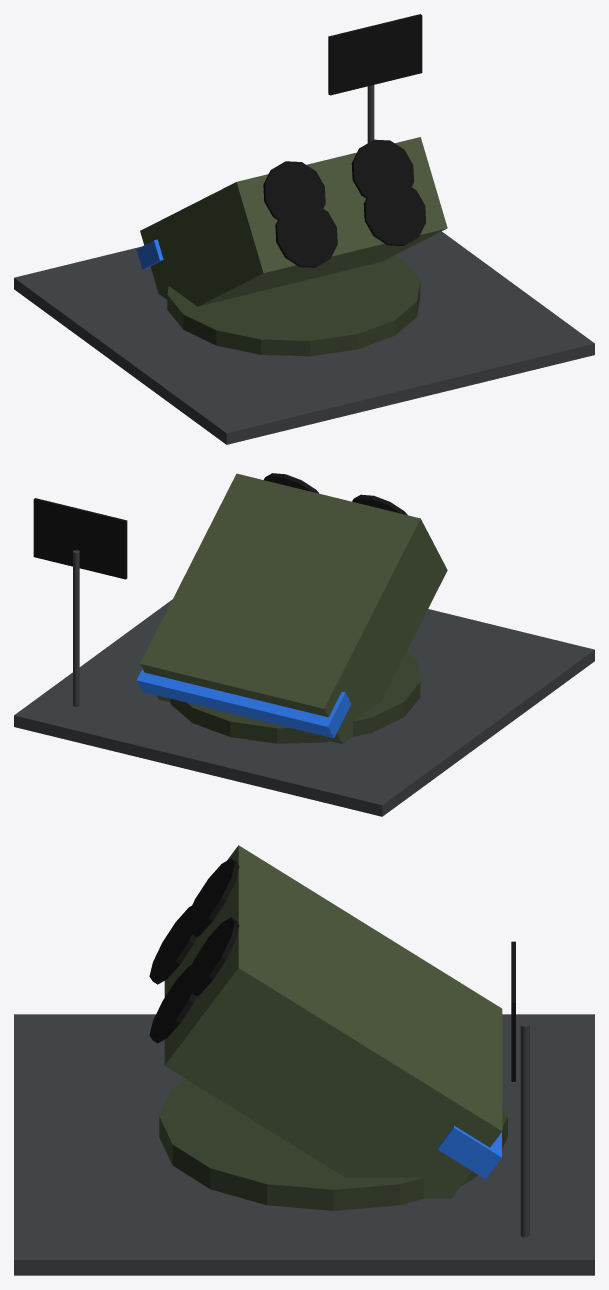
The model's file is kp_heavy_missile_site.glb.
The picture shows the model from 3 angles, top to bottom: view 1: azimuth 30°, elevation 25°; view 2: azimuth 150°, elevation 25°; view 3: azimuth 270°, elevation 25°; orthographic projection. The views are drawn at different scales.
Parts seen in each view (by area): view 1: base, barrel, turret, radar_panel, tube_0, tube_3, tube_1, tube_2; view 2: barrel, base, radar_panel, turret, team_band, radar_mast, tube_2, tube_3; view 3: base, barrel, turret, radar_mast, tube_3, tube_0, tube_1, team_band, tube_2, radar_panel.
Boxes of the visible parts, <box> form: base: <box>14,231,594,444</box>; barrel: <box>140,137,447,306</box>; turret: <box>167,255,420,356</box>; radar_panel: <box>328,14,422,95</box>; tube_0: <box>275,202,337,267</box>; tube_3: <box>351,139,413,204</box>; tube_1: <box>363,181,425,245</box>; tube_2: <box>263,161,325,225</box>; barrel: <box>140,473,447,744</box>; base: <box>14,599,594,816</box>; radar_panel: <box>33,498,127,579</box>; turret: <box>170,652,420,743</box>; team_band: <box>136,669,351,738</box>; radar_mast: <box>73,550,79,706</box>; tube_2: <box>352,494,407,515</box>; tube_3: <box>264,473,318,493</box>; base: <box>14,1014,594,1275</box>; barrel: <box>164,845,502,1198</box>; turret: <box>159,1079,507,1210</box>; radar_mast: <box>520,1023,529,1237</box>; tube_3: <box>183,917,239,996</box>; tube_0: <box>149,903,201,984</box>; tube_1: <box>149,961,201,1043</box>; team_band: <box>437,1125,501,1178</box>; tube_2: <box>185,858,239,937</box>; radar_panel: <box>511,941,515,1081</box>.
Size of the model in its own units: 10.25 by 5.58 by 10.
